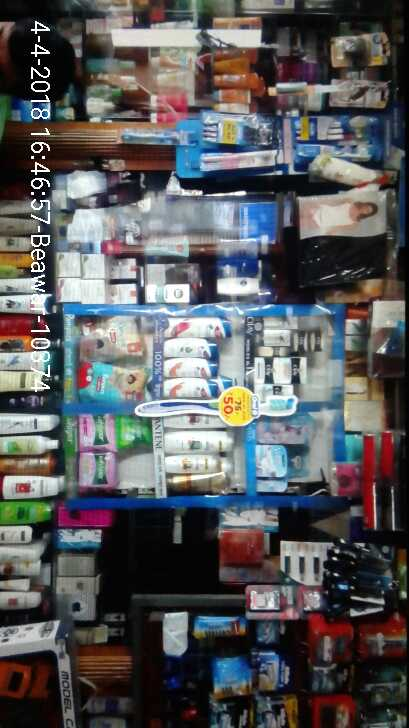venus: (253, 407, 320, 441), (250, 447, 307, 481)
